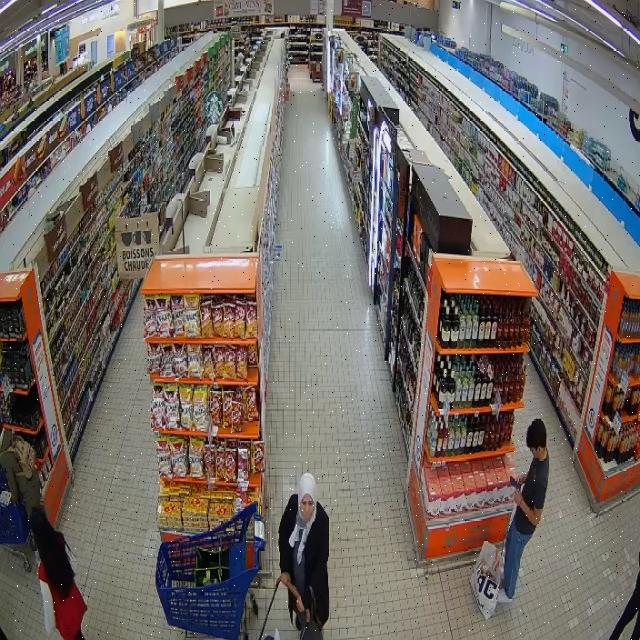bags: (470, 541, 499, 619), (12, 435, 35, 478)
hands: (280, 573, 290, 587), (514, 489, 522, 506), (296, 598, 304, 613), (518, 474, 528, 484)
person: (498, 419, 549, 603), (279, 474, 329, 627), (31, 508, 87, 639), (0, 428, 40, 514), (610, 573, 639, 639)
